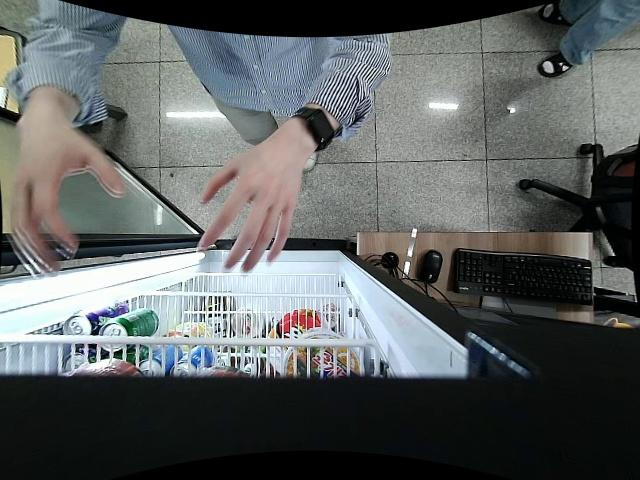00_hand: (10, 118, 127, 276), (197, 149, 300, 274)
